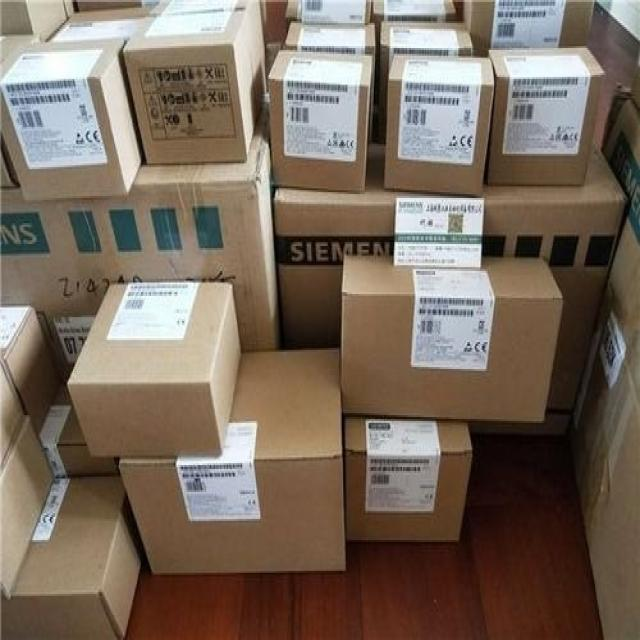box: (0, 95, 282, 381), (118, 350, 347, 574), (481, 137, 627, 413), (341, 254, 564, 422), (274, 144, 450, 351), (67, 283, 242, 457), (121, 0, 267, 163), (0, 475, 145, 638), (0, 41, 145, 201), (488, 47, 605, 186), (345, 414, 472, 541), (384, 54, 494, 196), (268, 49, 373, 192), (379, 20, 474, 143), (0, 416, 54, 599), (0, 305, 60, 434), (38, 382, 120, 476), (464, 0, 595, 58), (47, 6, 156, 41), (284, 21, 375, 55), (1, 0, 74, 42), (1, 358, 24, 471), (372, 0, 457, 24), (285, 0, 371, 23), (0, 34, 42, 66)
